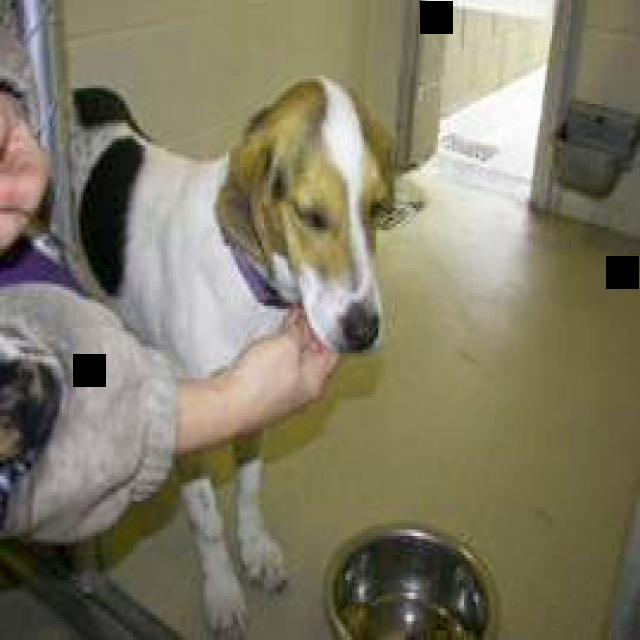adult_dog: (2, 76, 401, 640)
